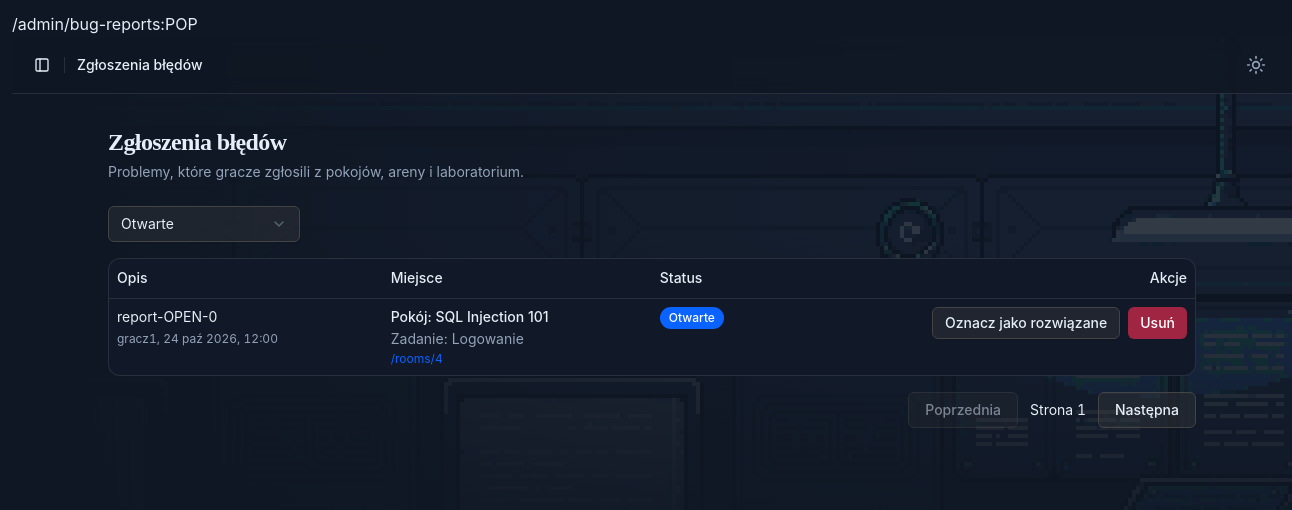
Test: admin dashboard › pages bug reports by status without fetching the entire list
The width and height of the screenshot is (1292, 510).
Expected: the text "report-OPEN-0" is shown, [117, 308, 217, 325]
Step 1. Click the button "Następna" → (1147,410), box [1098, 392, 1196, 428]
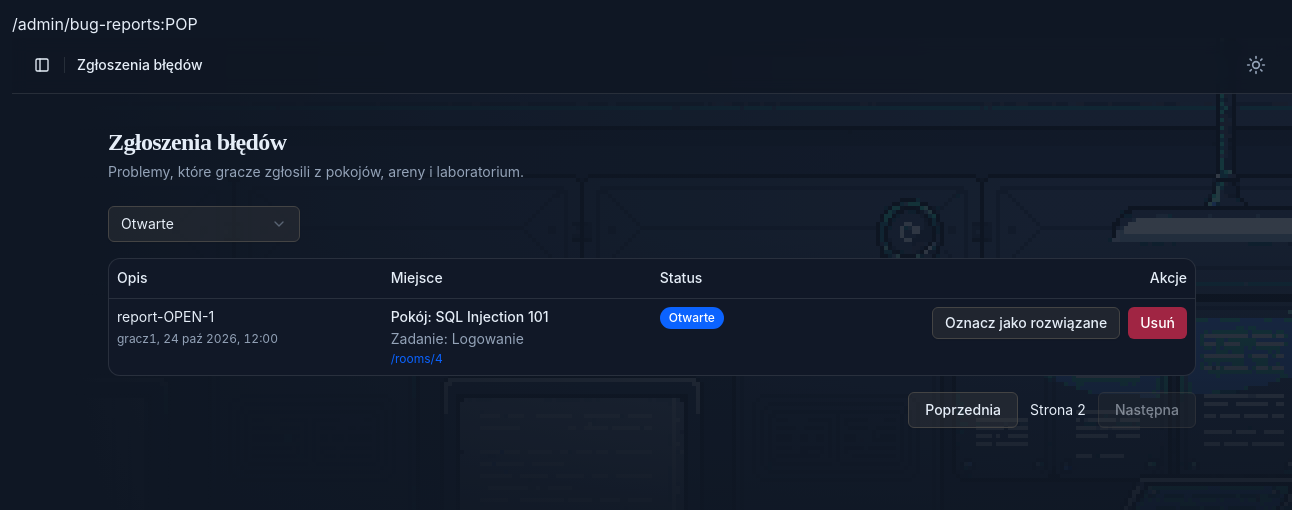
Expected: the text "report-OPEN-1" is shown, [117, 308, 214, 325]
Expected: the button "Następna" is disabled, [1098, 392, 1196, 428]
Step 2. Click the dropdown named "Filtruj według statusu" → (204,224), box [108, 206, 300, 242]
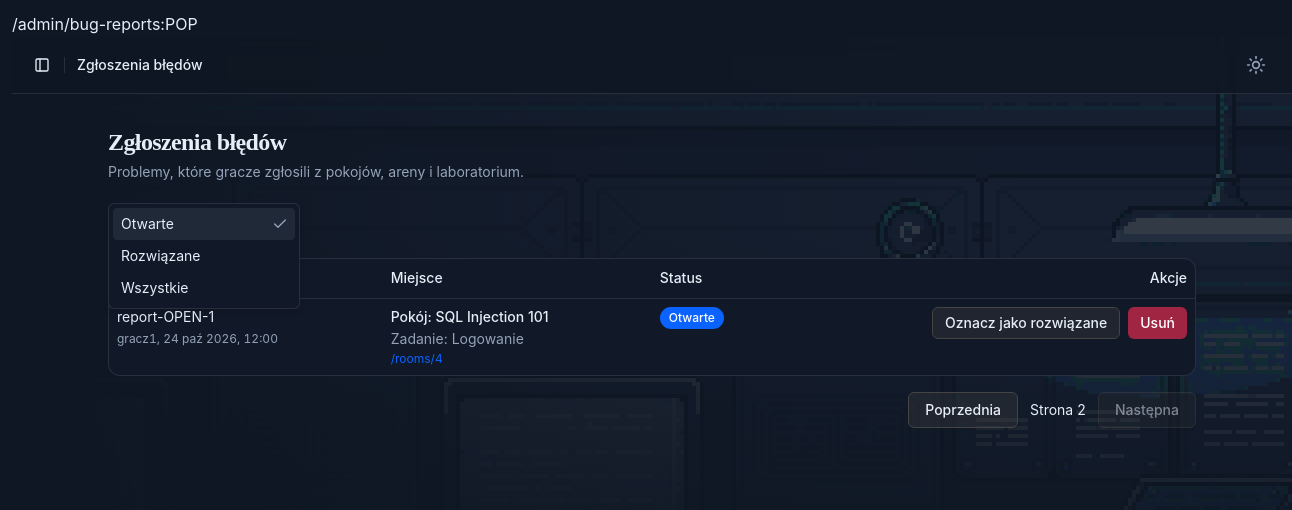
Step 3. Click the option "Wszystkie" → (155,287), box [121, 279, 188, 296]
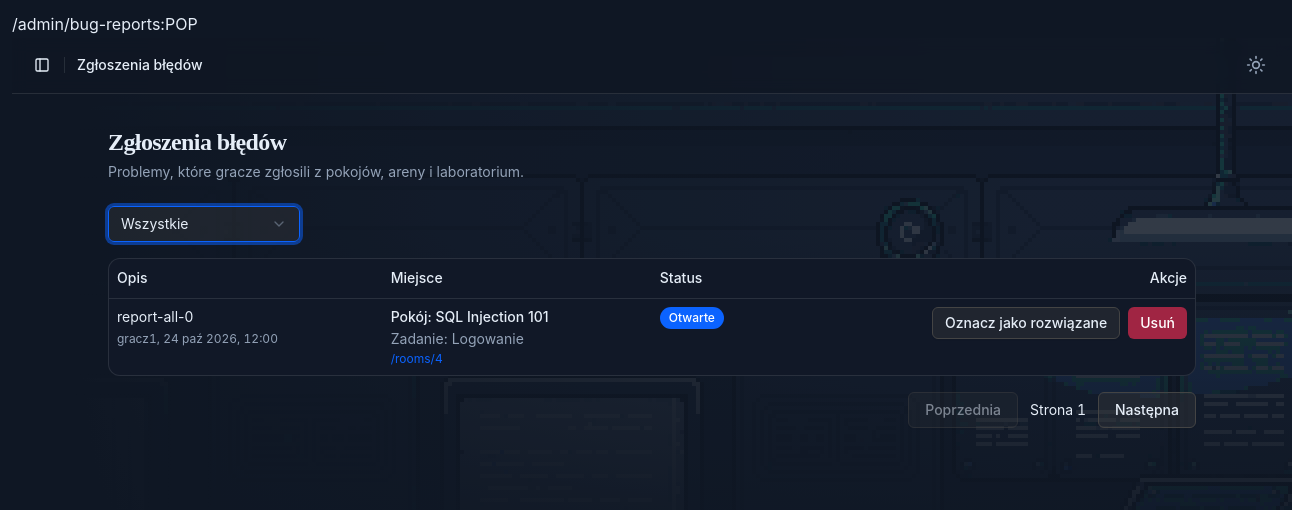
Expected: the text "report-all-0" is shown, [117, 308, 193, 325]
Step 4. Click the dropdown named "Filtruj według statusu" → (204,224), box [108, 206, 300, 242]
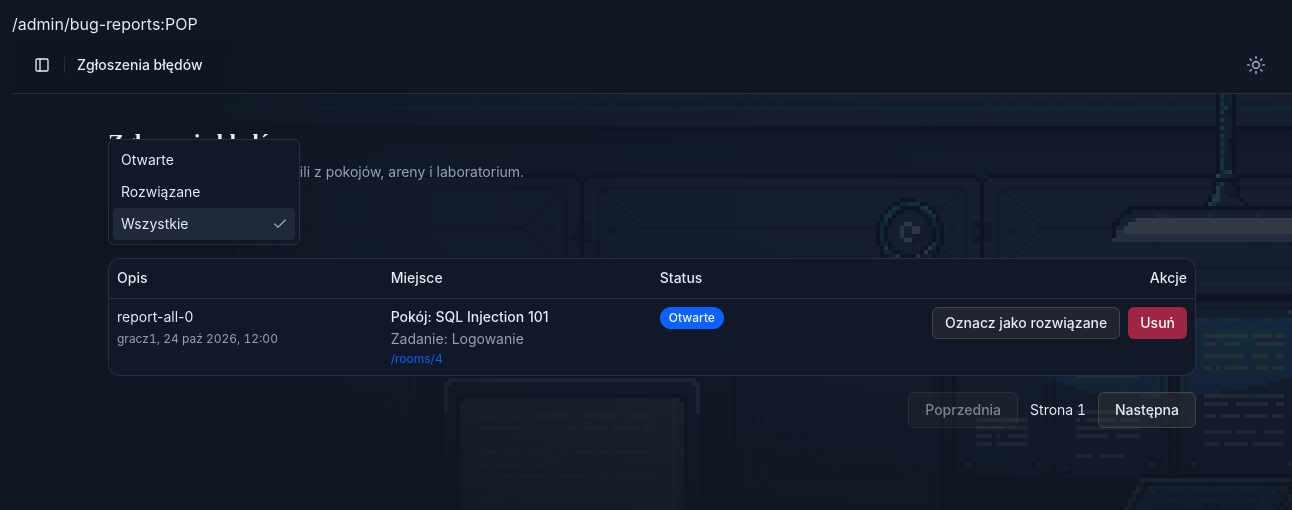
Step 5. Click the option "Rozwiązane" → (161,191), box [121, 183, 200, 200]
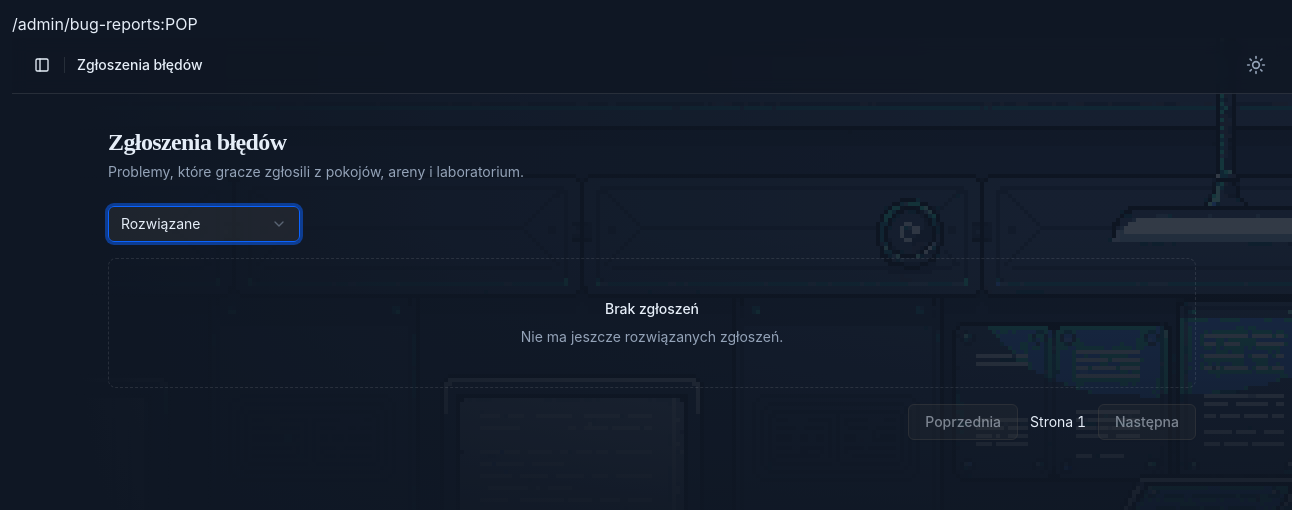
Expected: the text "Nie ma jeszcze rozwiązanych zgłoszeń." is shown, [521, 327, 783, 347]
